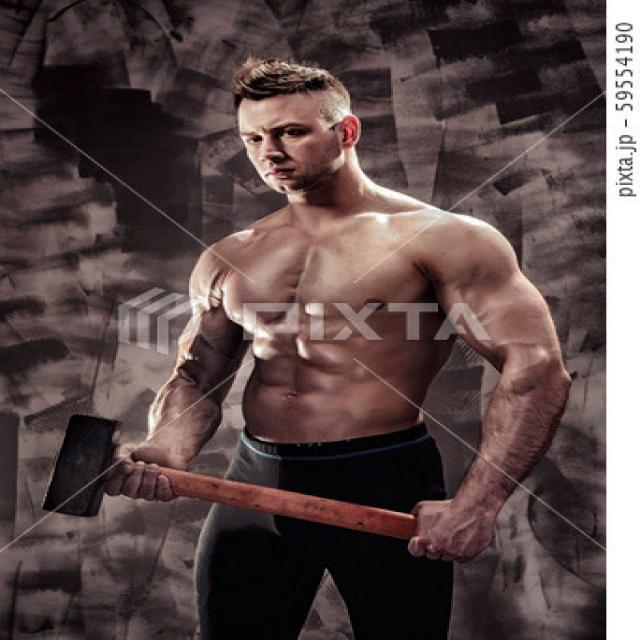hammer: (42, 402, 495, 572)
